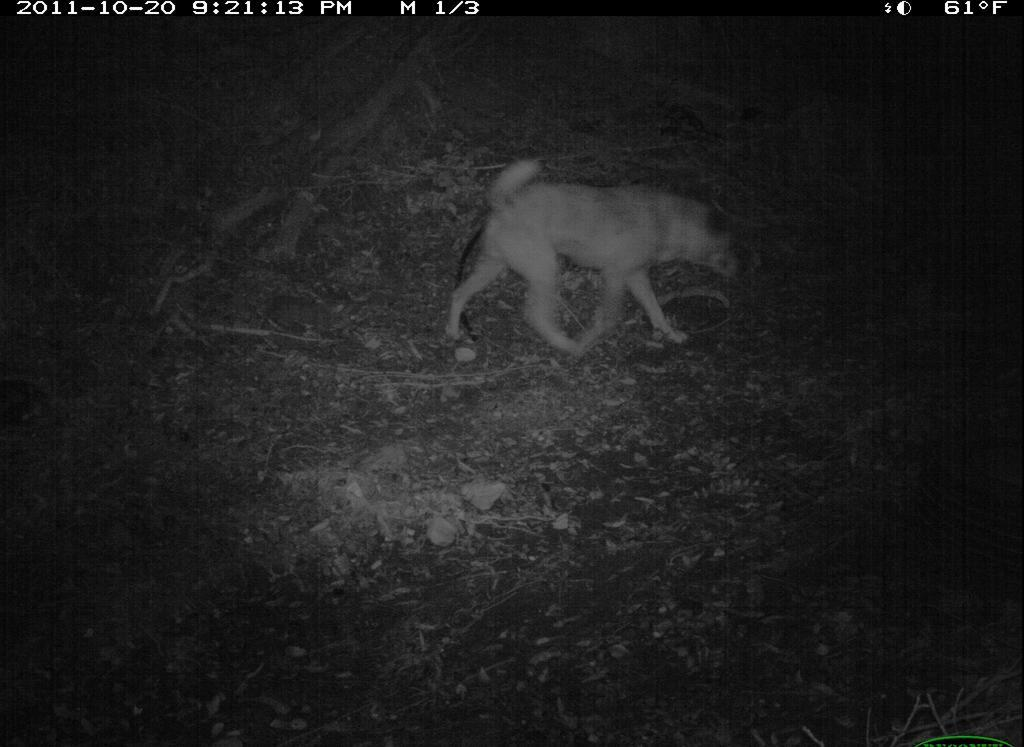dog: (431, 150, 745, 358)
